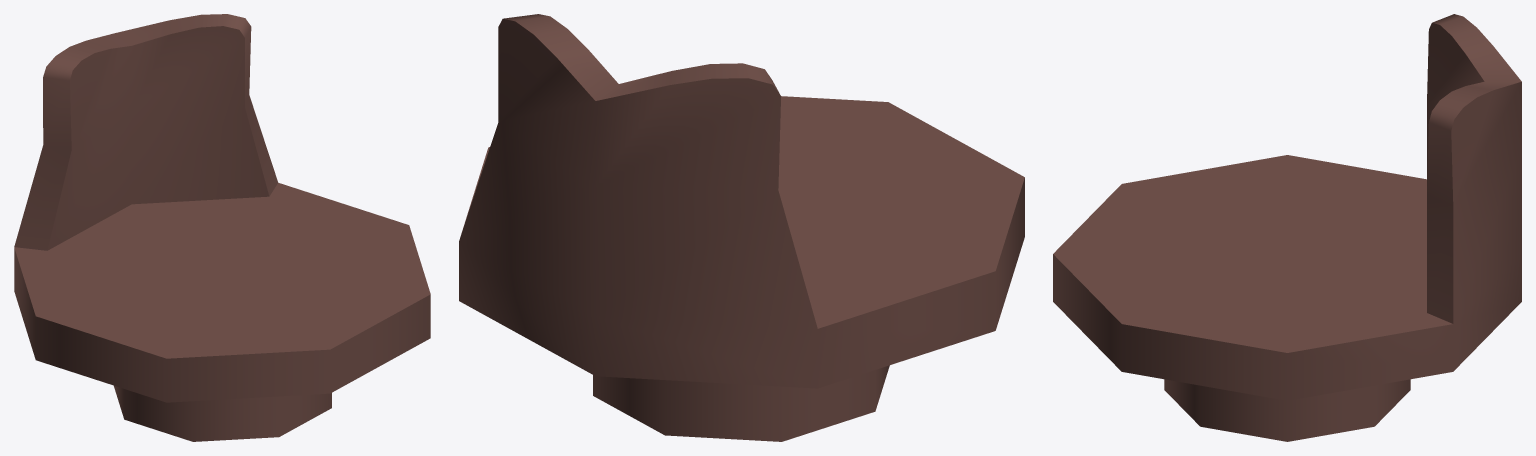
The model's file is obj_Stool.fbx.
3 views of the same model, side by side, from view 1: azimuth 30°, elevation 25°; view 2: azimuth 150°, elevation 25°; view 3: azimuth 270°, elevation 25° (orthographic). The views are drawn at different scales.
Parts seen in each view (by area): view 1: Stool; view 2: Stool; view 3: Stool.
Part boxes in pixels (x1,y1,x2,y2): Stool: (14,14,430,441); Stool: (459,14,1024,441); Stool: (1053,14,1521,441).
Bounding box in the file's own units: 2 × 1.54 × 2.
